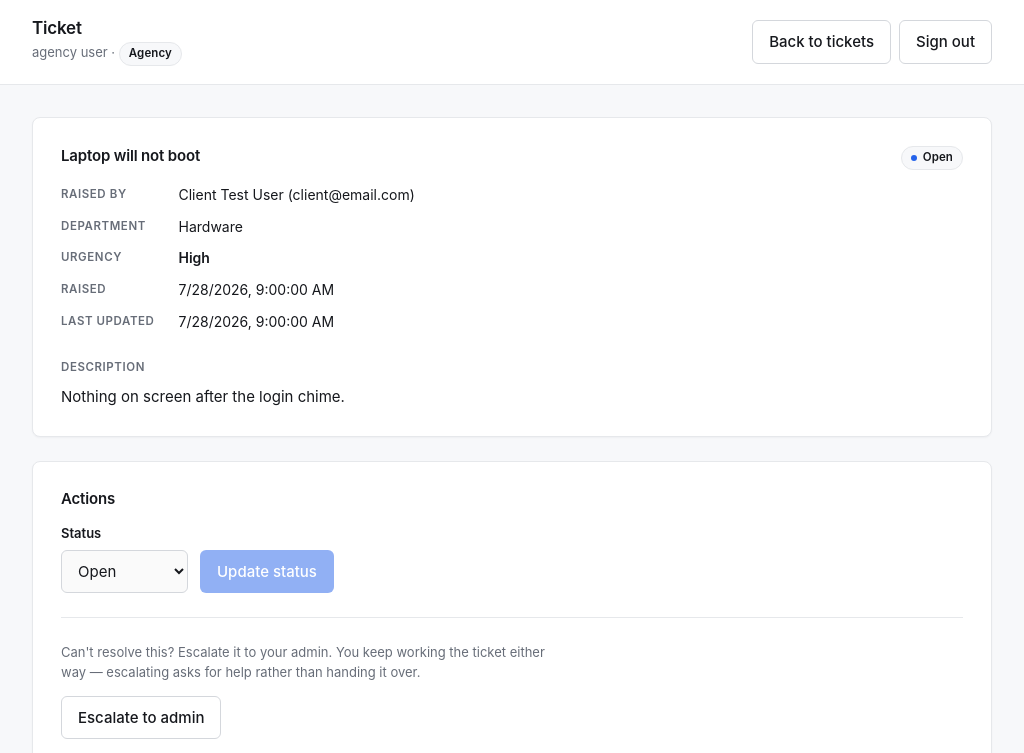
Scenario: ticket detail › lets an agency escalate an unescalated ticket
This screenshot has width=1024, height=753.
Click the button "Escalate to admin": x=141, y=718 [61,696,222,739]
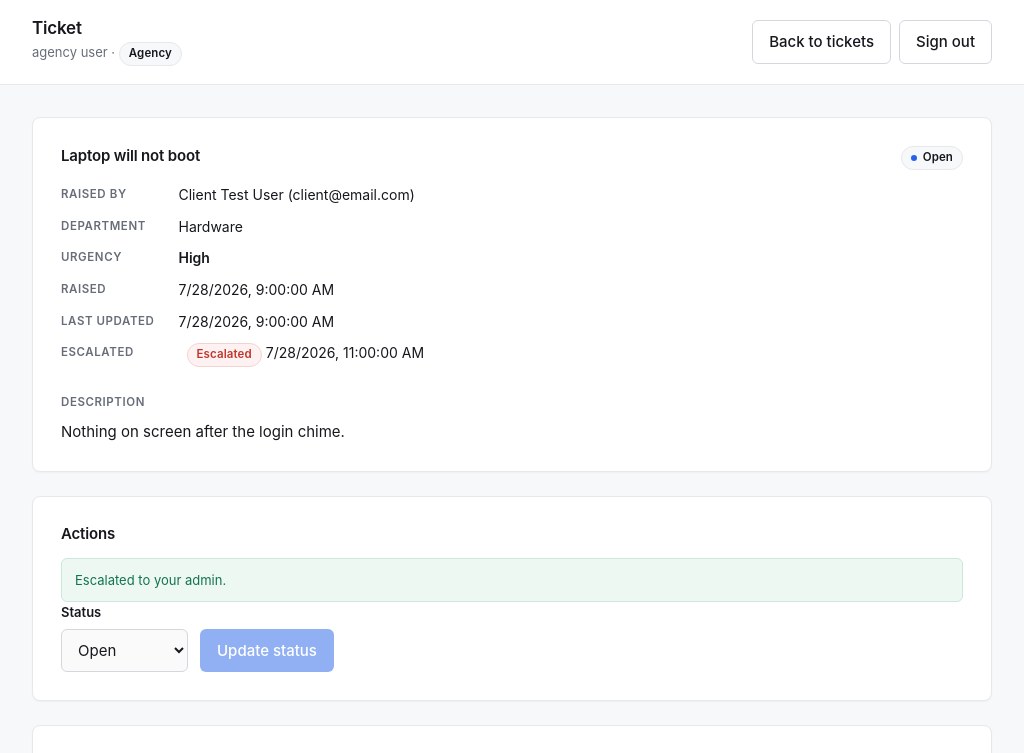
Expected: the message shows "Escalated to your admin", [75,572,226,588]
Expected: the button "Escalate to admin" is gone
